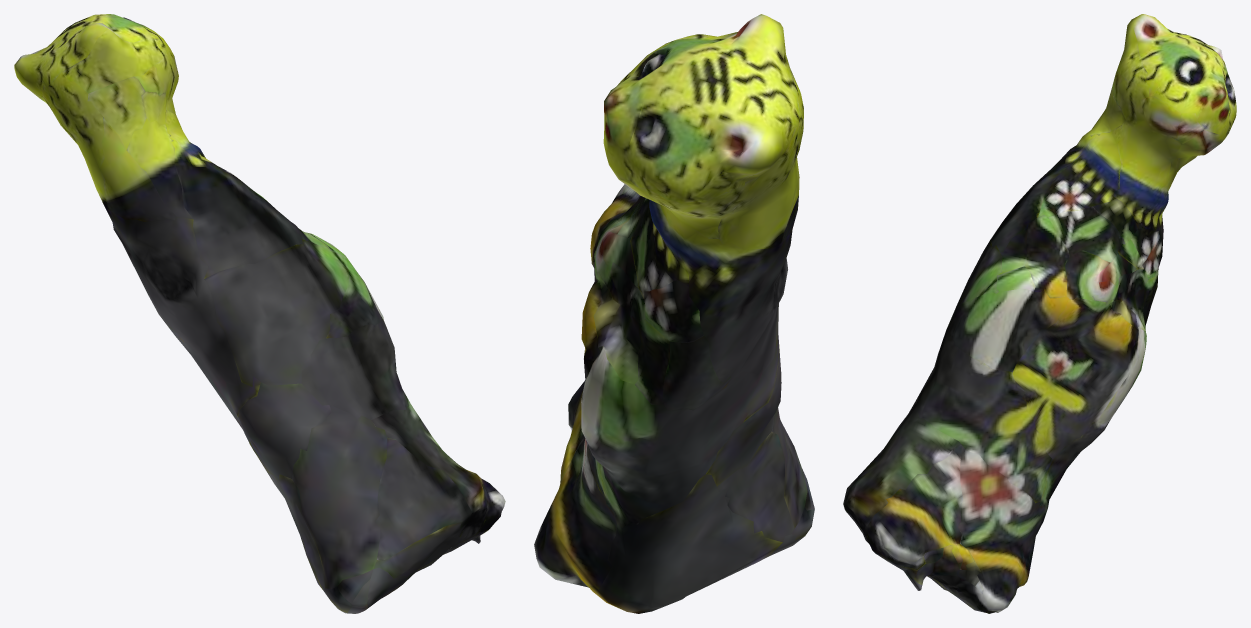
Rendered from hall.glb.
3 renders of one model, left to right at view 1: azimuth 30°, elevation 25°; view 2: azimuth 150°, elevation 25°; view 3: azimuth 270°, elevation 25°, orthographic. The views are drawn at different scales.
Bounding box in the file's own units: 0.4504 × 0.7335 × 0.524.
Materials: 1 (1 with a texture image).
